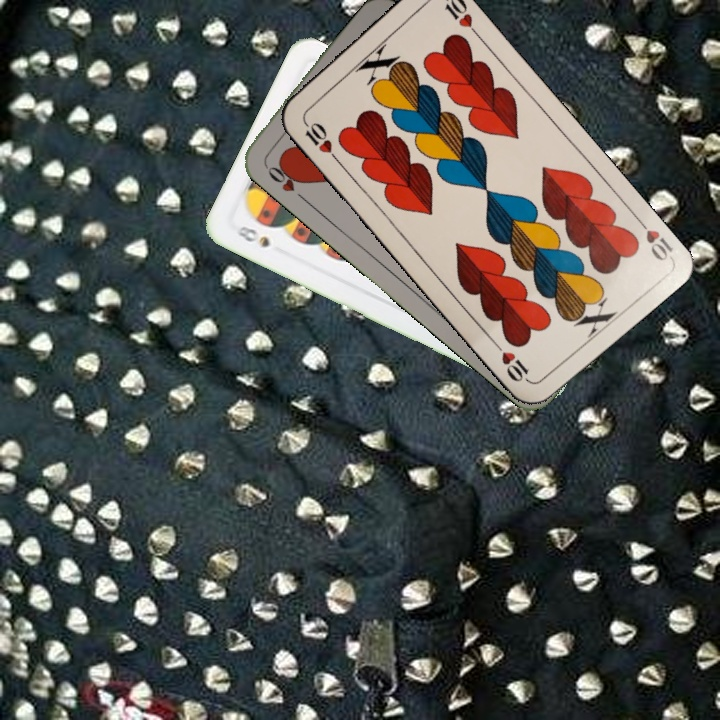H10: (631, 212, 676, 264), (299, 115, 341, 164)
HO: (260, 157, 308, 203)
S8: (229, 222, 273, 250)
